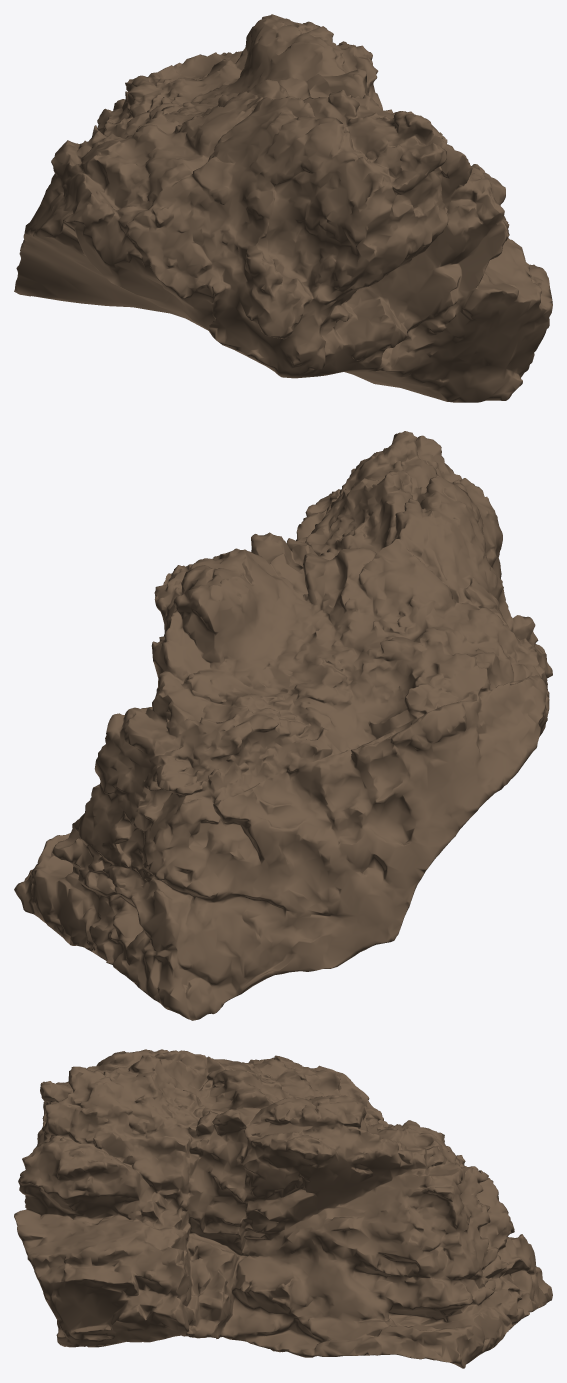
Rendered from boulder_01-lod0.glb.
The picture shows the model from 3 angles, top to bottom: view 1: azimuth 30°, elevation 25°; view 2: azimuth 150°, elevation 25°; view 3: azimuth 270°, elevation 25°; orthographic projection. The views are drawn at different scales.
Visible parts, largest first — view 1: boulder_01; view 2: boulder_01; view 3: boulder_01.
Boxes of the visible parts, left/top/right/bottom form: boulder_01: left=14, top=14, right=552, bottom=402; boulder_01: left=14, top=431, right=552, bottom=1020; boulder_01: left=14, top=1049, right=552, bottom=1368.
Bounding box in the file's own units: 1.27 × 1 × 1.83.
